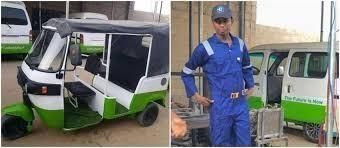keke: (1, 17, 166, 144)
